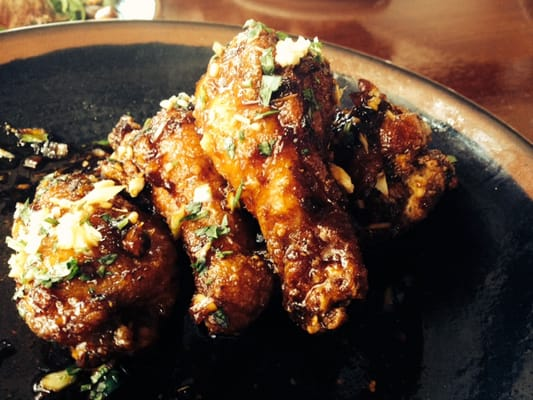curry: (4, 1, 532, 400)
